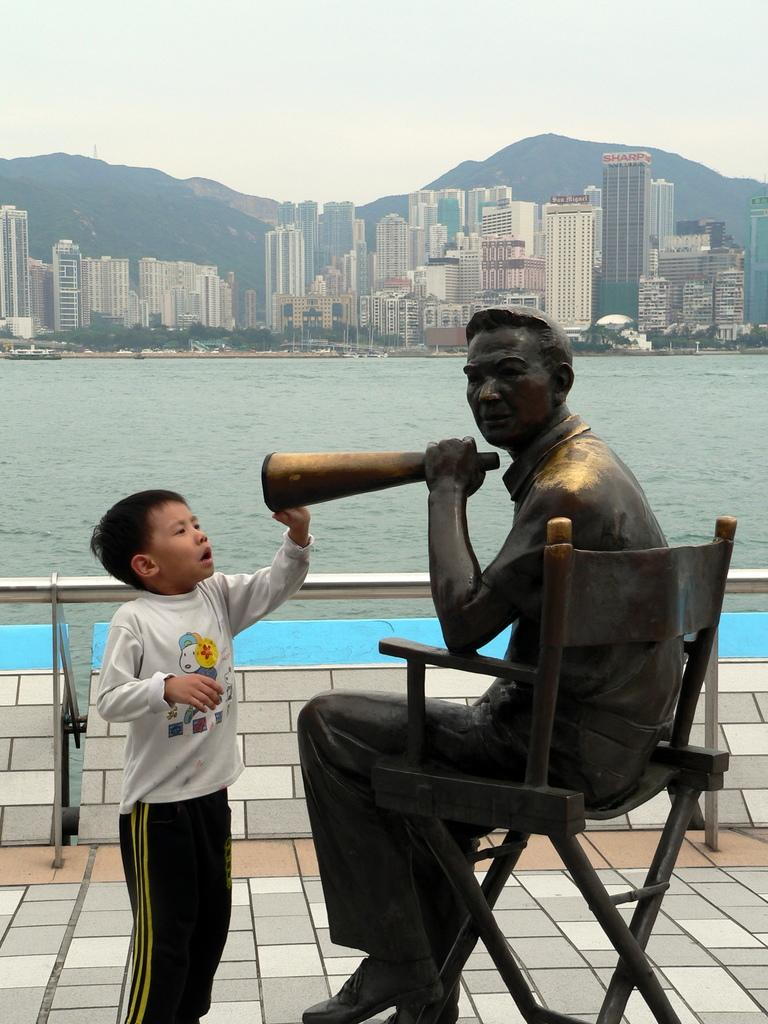Chair: (369, 512, 737, 1023)
